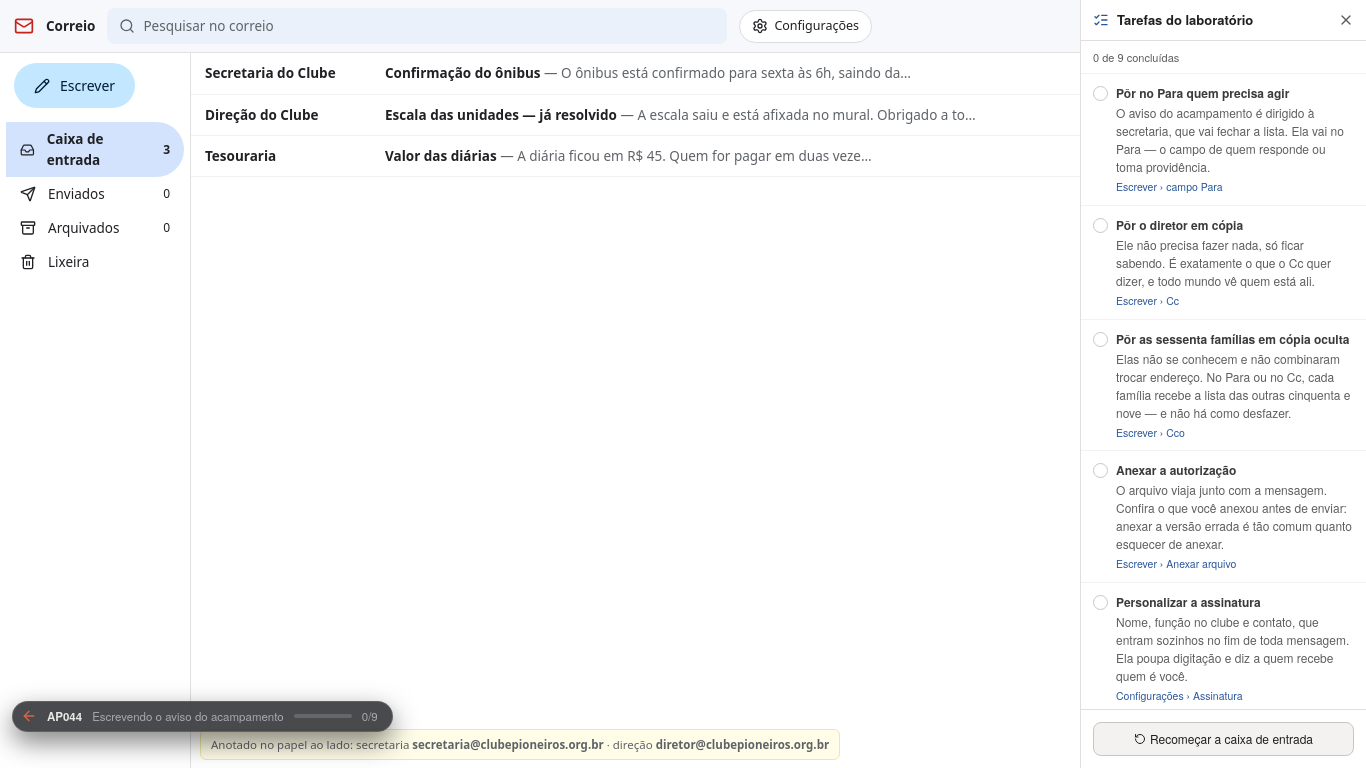
o correio do clube se resolve clicando › arquivar tira da entrada e guarda em Arquivados
Click the button with class "co-linha" that starts with "Direção do Clube" at x=636, y=115, box [191,94,1080,136]
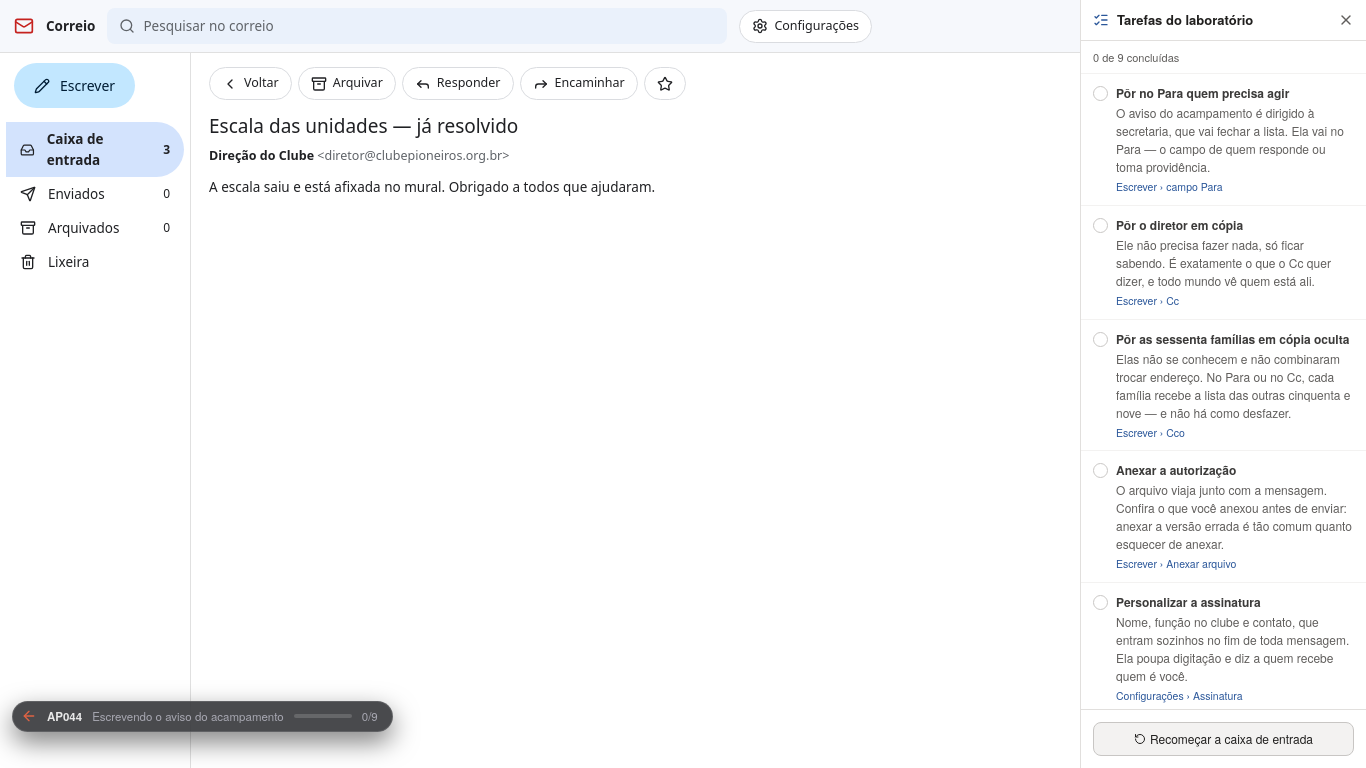
Click the button "Arquivar" at x=347, y=84, box [298,67,396,100]
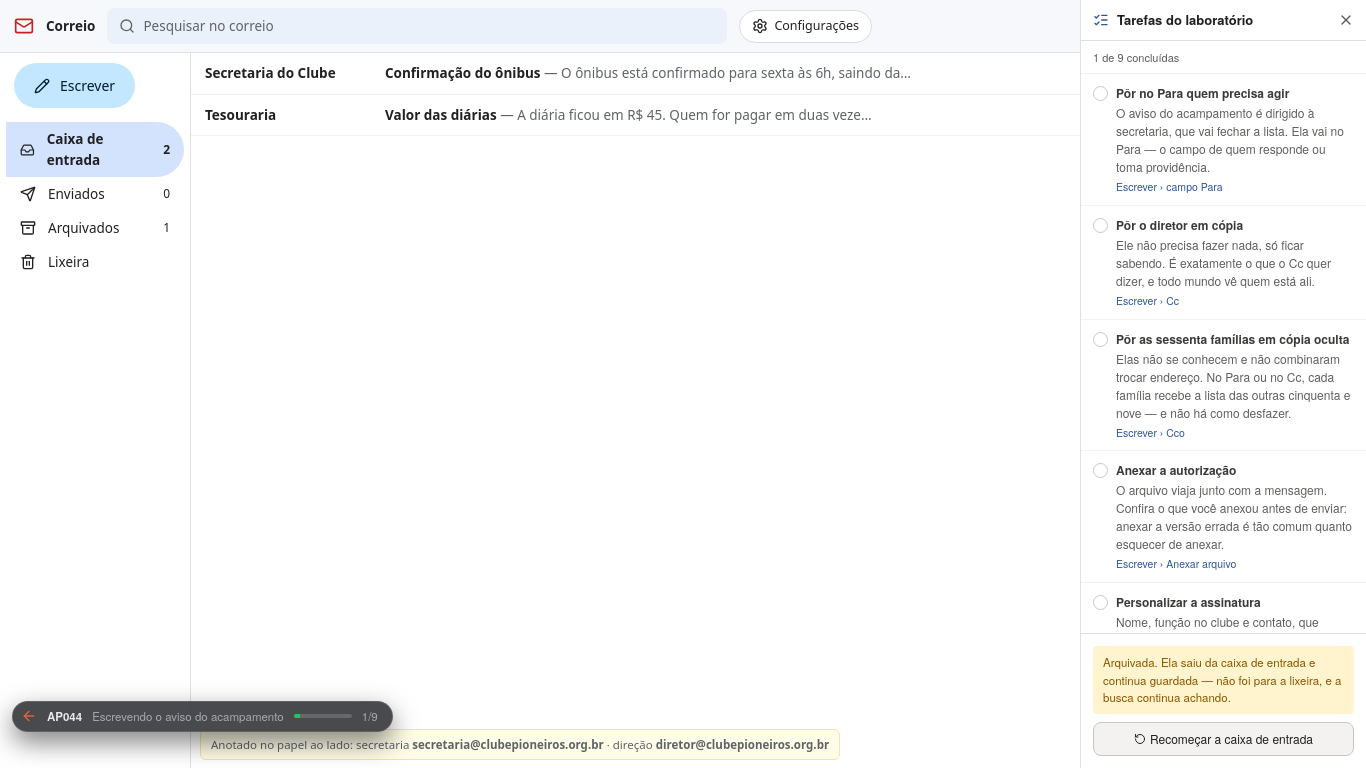
Expected: the number of buttons with class "co-linha" is 2, [191,53,1080,95]; [191,94,1080,136]
Click the button with class "co-pasta" showing "Arquivados 1" at x=95, y=228, box [6,211,184,245]
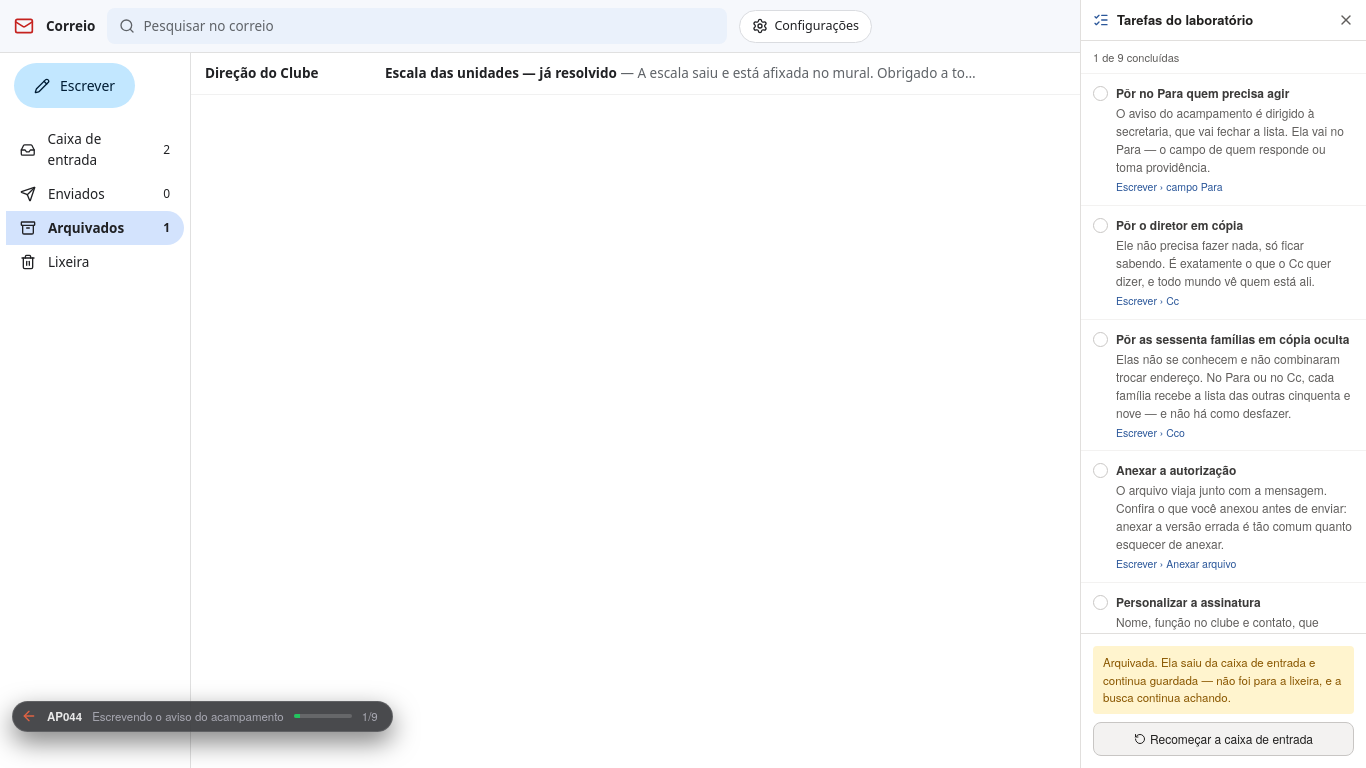
Expected: the text "Escala das unidades" is shown, [385,64,617,82]
